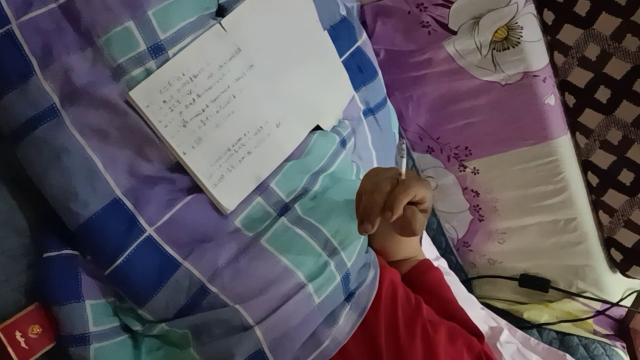Cigarette: (398, 138, 407, 194)
